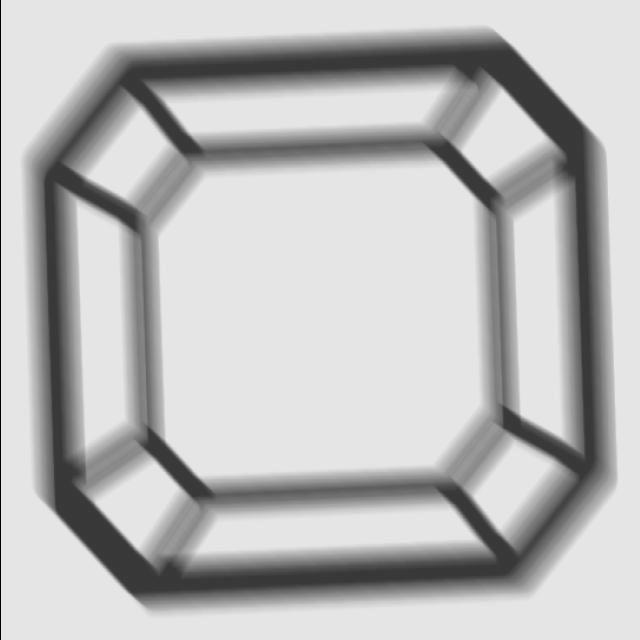emerald: (18, 23, 622, 620)
